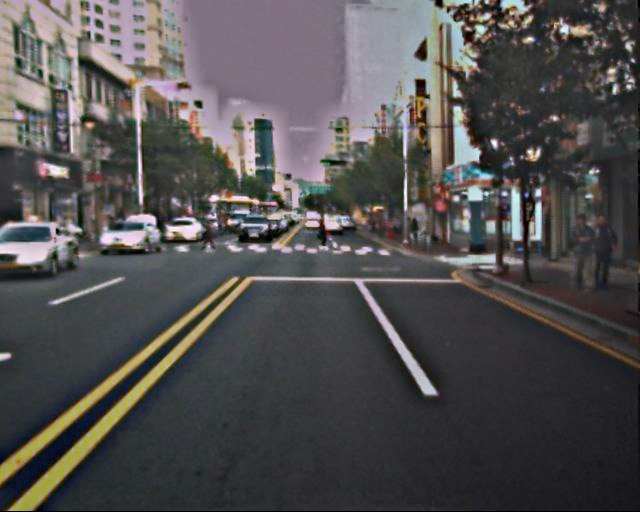person: (584, 213, 616, 290), (565, 213, 596, 289), (314, 217, 330, 257), (201, 219, 215, 253)
